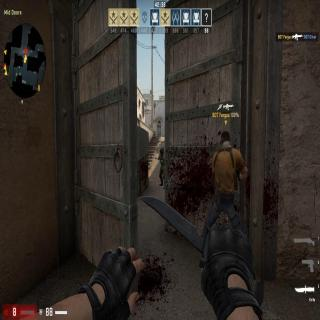CT-Body: (158, 146, 165, 189)
CT-Head: (160, 146, 164, 154)
